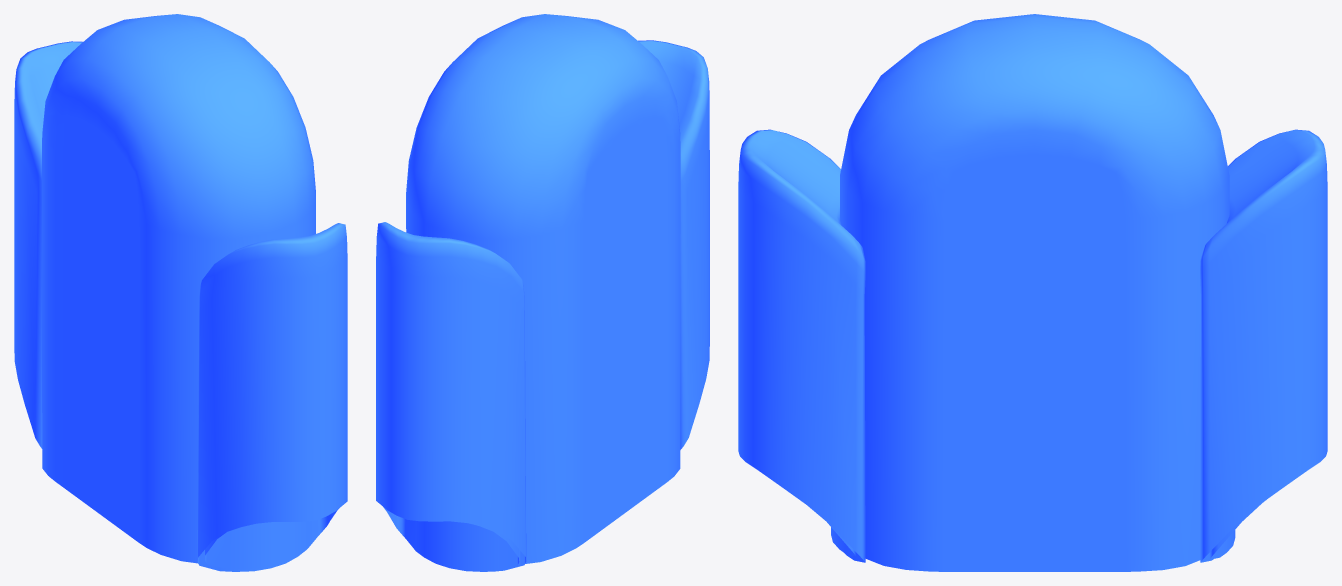
Rendered from cupula.glb.
3 views of the same model, side by side, from view 1: azimuth 30°, elevation 25°; view 2: azimuth 150°, elevation 25°; view 3: azimuth 270°, elevation 25° (orthographic). The views are drawn at different scales.
Visible parts, largest first — view 1: cupula_up, cupula_down; view 2: cupula_up, cupula_down; view 3: cupula_up, cupula_down.
Boxes of the visible parts, x1,y1,x2,y2 form: cupula_up: (14,14,347,571); cupula_down: (205,511,335,569); cupula_up: (376,14,709,570); cupula_down: (383,507,519,571); cupula_up: (738,14,1327,571); cupula_down: (827,502,1263,559).
Bounding box in the file's own units: 0.6823 × 1.86 × 1.96.
